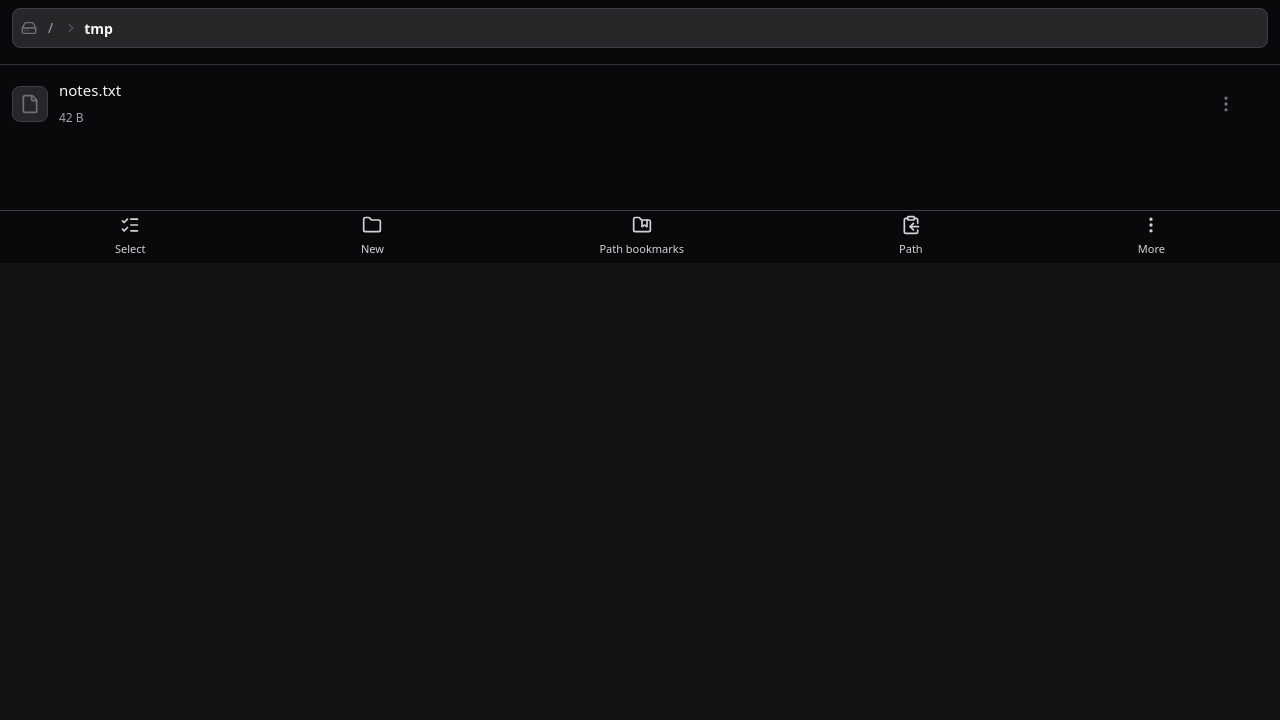
Test: FileManager overlays › keeps the file action sheet open under a named delete confirmation and deletes once
The image size is (1280, 720).
Click the button named "More actions for notes.txt".
click(1226, 104)  # box x1=1204 y1=82 x2=1248 y2=126
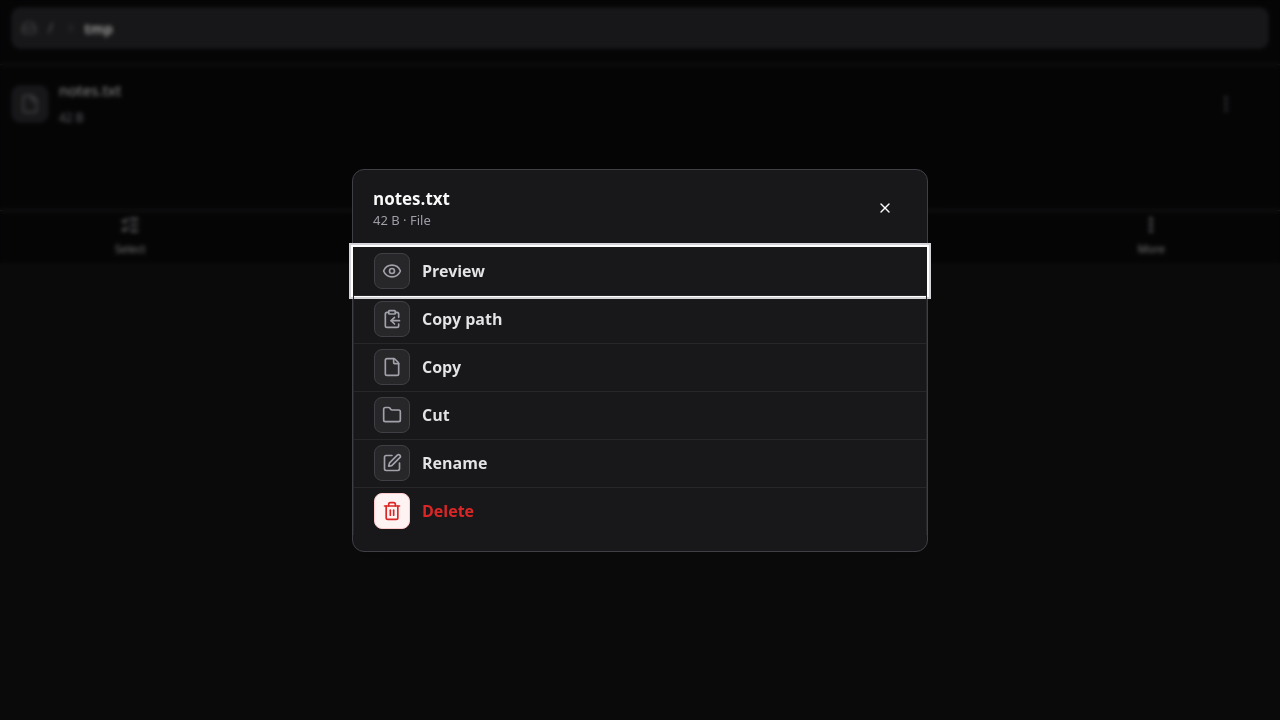
Click the button "Delete".
click(392, 511)  # box x1=353 y1=486 x2=927 y2=534
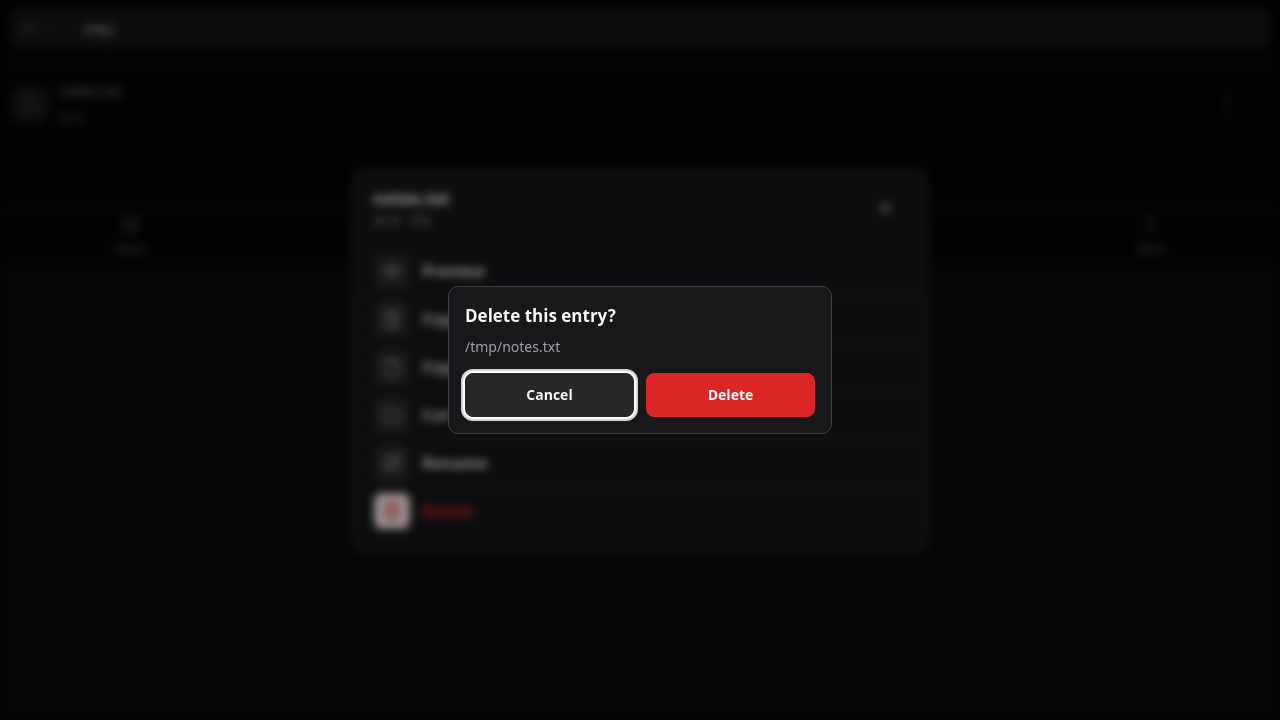
Now the element "notes.txt" is shown
Now the text "/tmp/notes.txt" is shown, box x1=465 y1=337 x2=560 y2=356
Press Escape
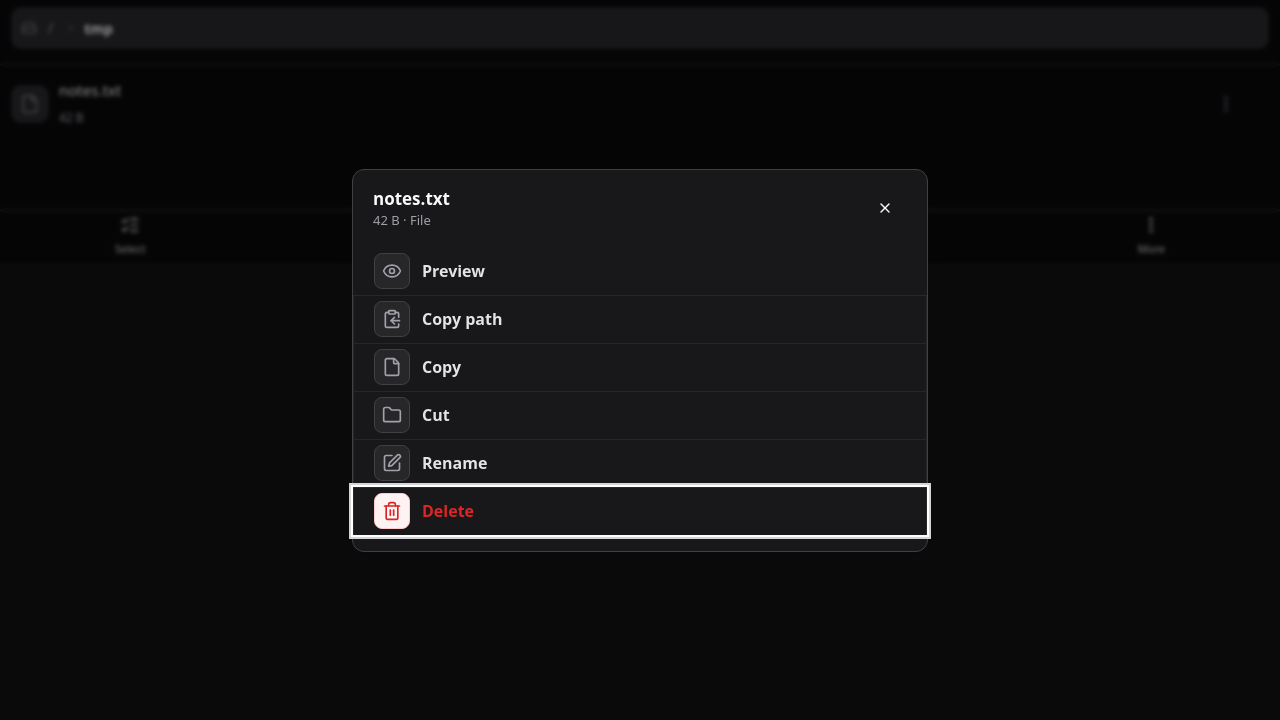
Now the dialog "notes.txt" is shown, box x1=352 y1=168 x2=928 y2=552
Now the heading "Delete this entry?" is gone
Click the button "Delete".
click(392, 511)  # box x1=353 y1=486 x2=927 y2=534
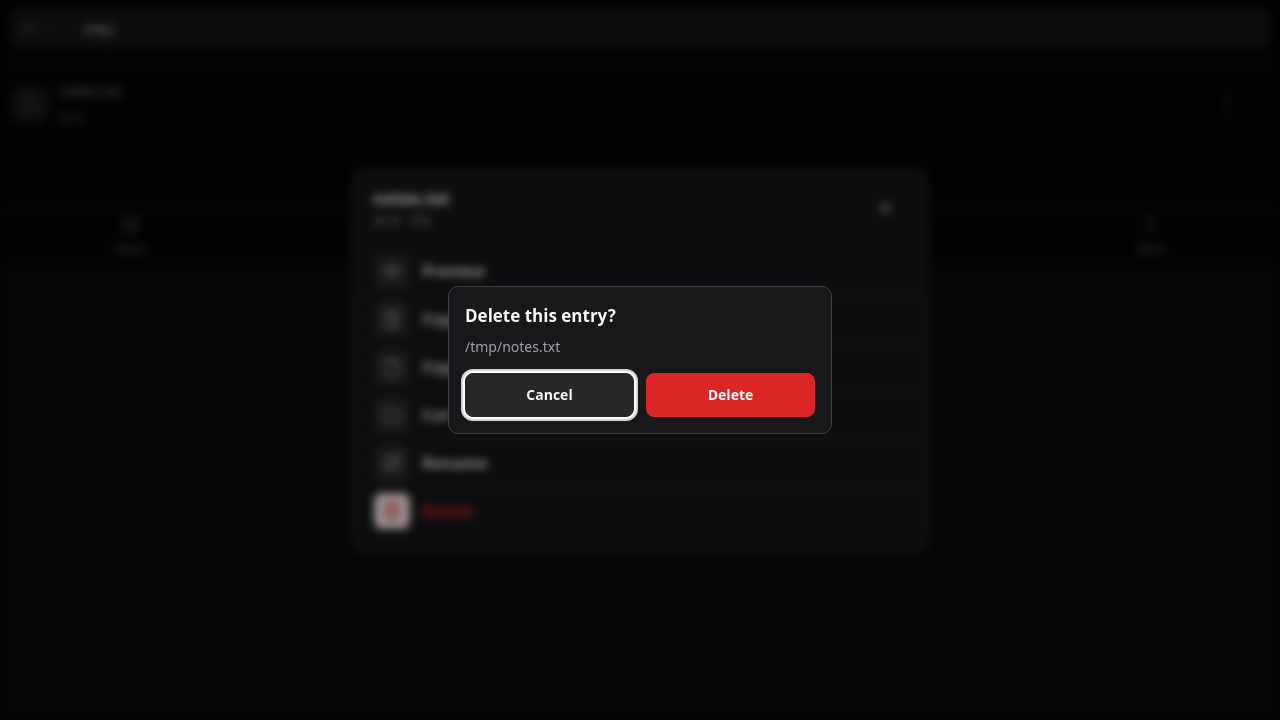
Click the button "Delete".
click(730, 395)  # box x1=646 y1=373 x2=815 y2=417
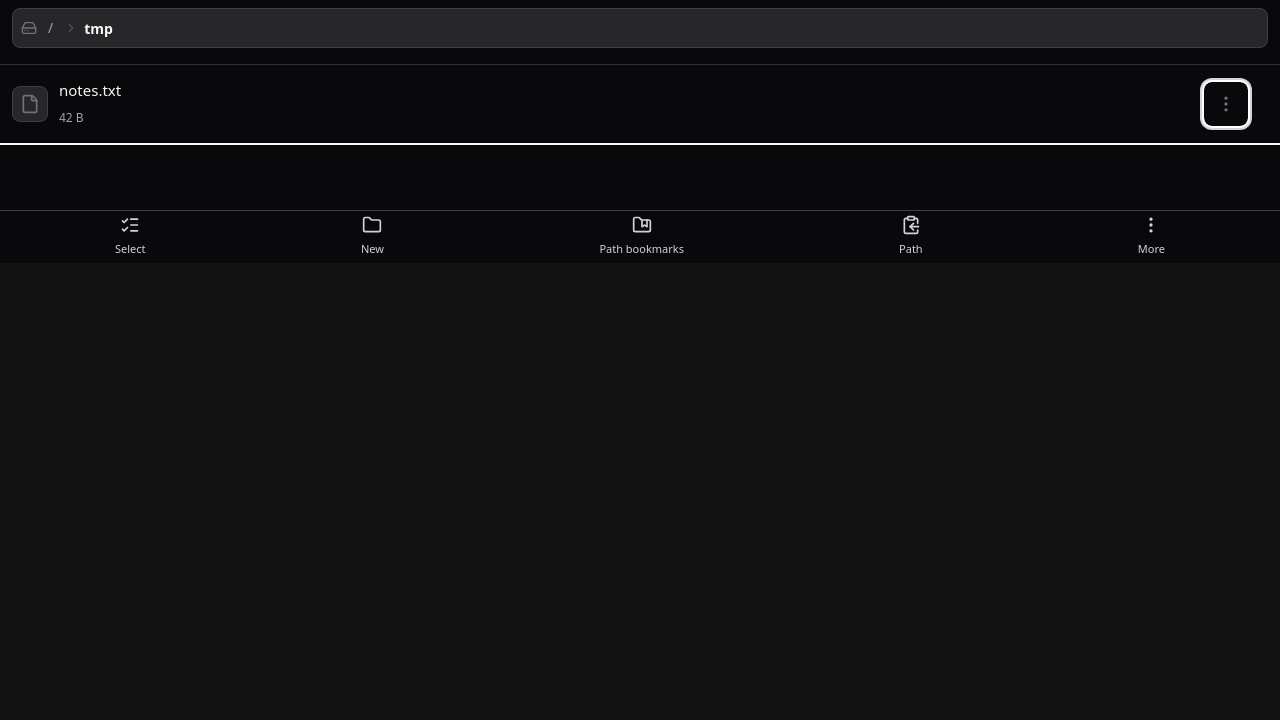
Now the dialog is gone
